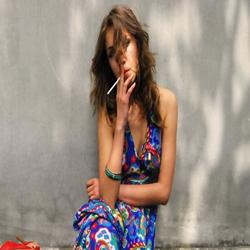smoking: (106, 67, 132, 97)
